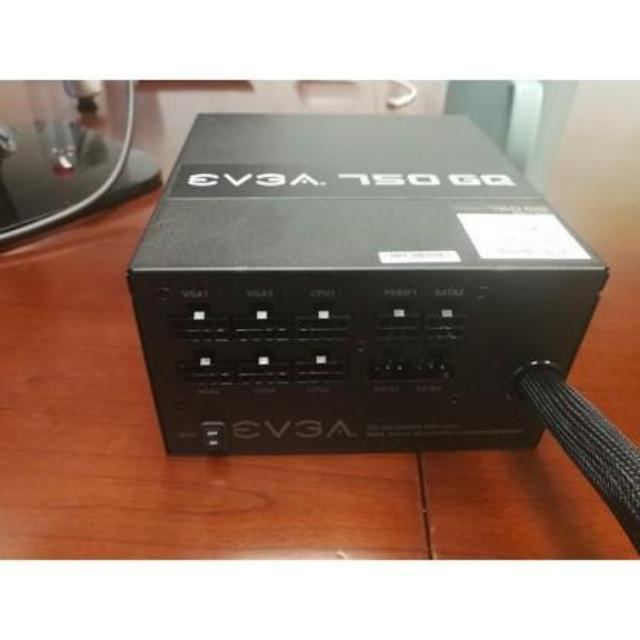PSU: (119, 100, 613, 474)
